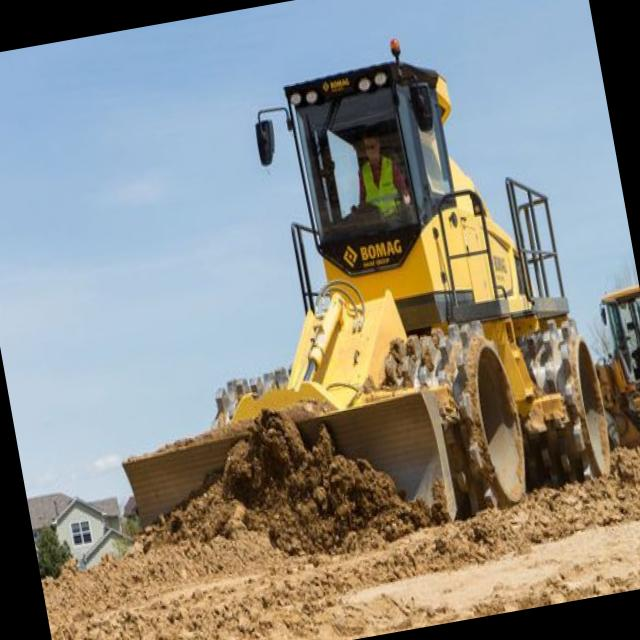red-sand: (41, 419, 640, 640)
